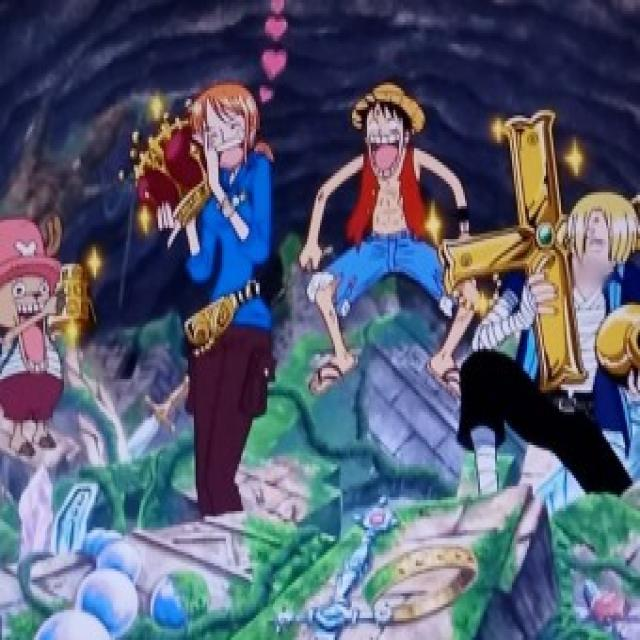Chyopa: (0, 193, 88, 458)
Luffy: (346, 78, 432, 188)
Nami: (174, 66, 275, 192)
Sangdi: (566, 181, 638, 286)
